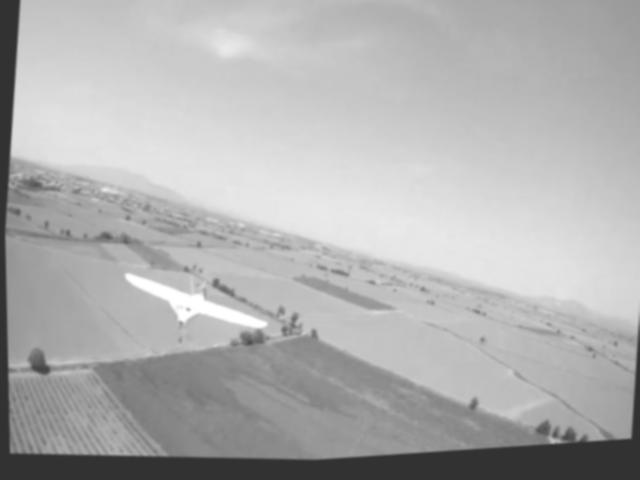hedef: (105, 255, 271, 365)
